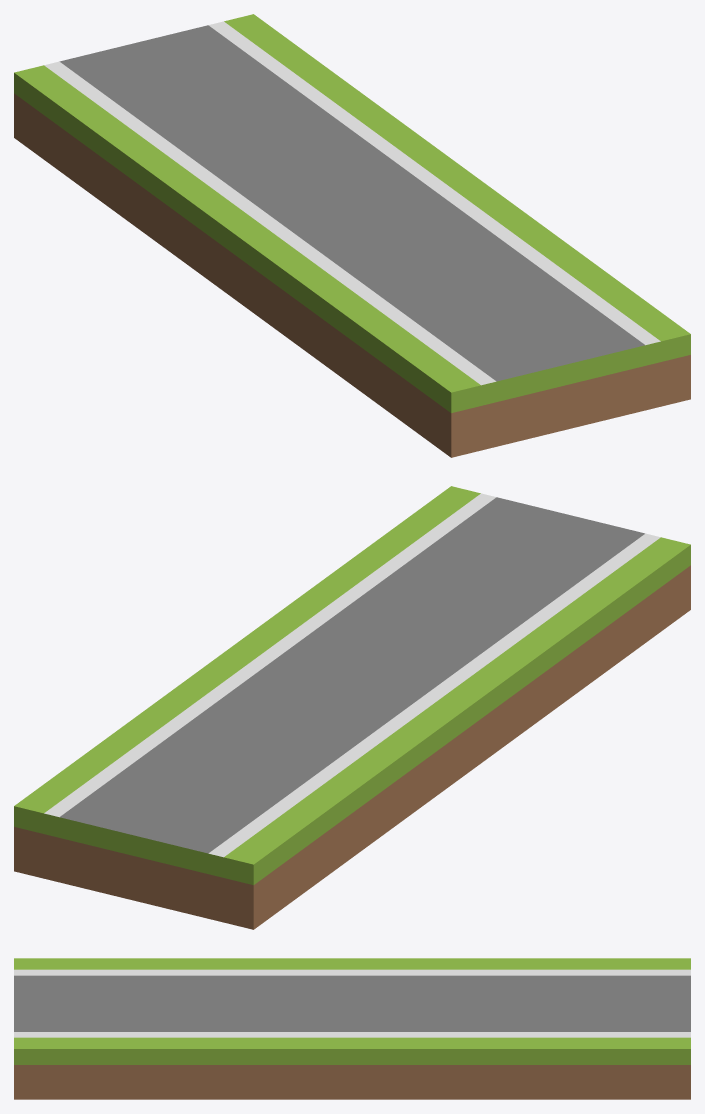
Rendered from IslandRoad.fbx.
3 renders of one model, top to bottom at view 1: azimuth 30°, elevation 25°; view 2: azimuth 150°, elevation 25°; view 3: azimuth 270°, elevation 25°, orthographic. The views are drawn at different scales.
Parts seen in each view (by area): view 1: Road; view 2: Road; view 3: Road.
Part boxes in pixels (x1,y1,x2,y2): Road: [14, 14, 690, 457]; Road: [14, 486, 690, 929]; Road: [14, 958, 690, 1099].
Size of the model in its own units: 0.3502 by 0.0911 by 1.11.
